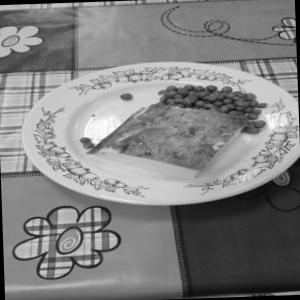casserole: (80, 74, 272, 181)
